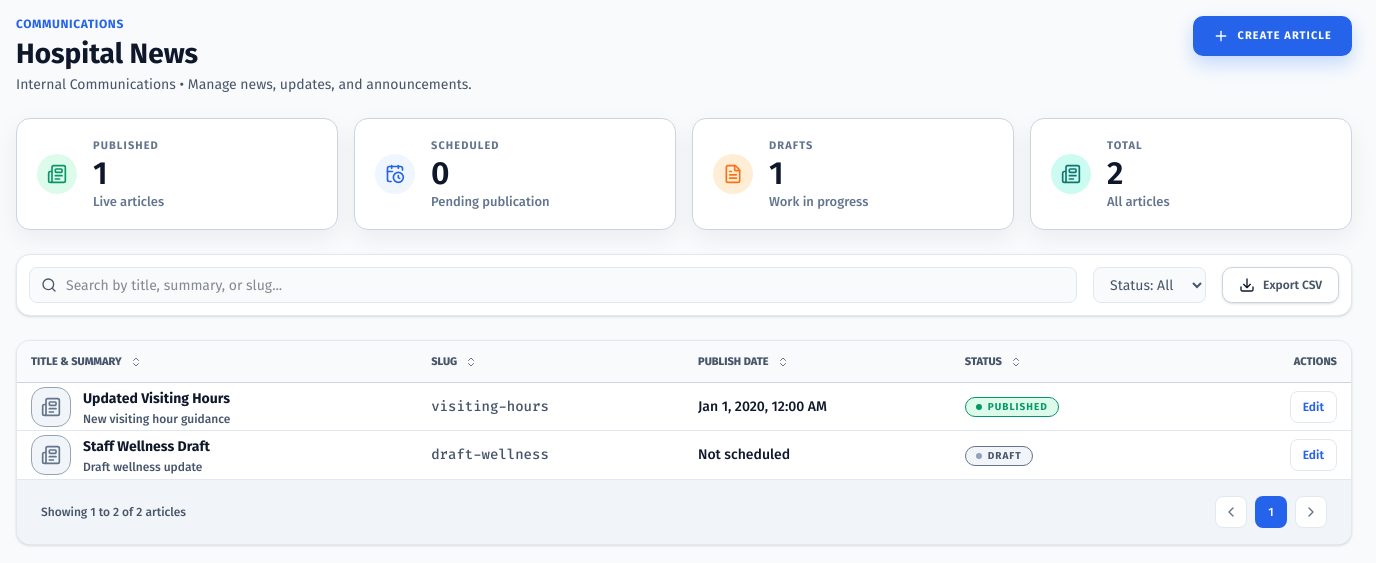
Test: AdminNewsPage › filters articles by search and status
The width and height of the screenshot is (1376, 563).
Expected: the text "Updated Visiting Hours" is shown, [83,390,230,406]
Step 1. Type "wellness" into the search field named "search news articles" → [553, 285], box [29,267,1077,303]
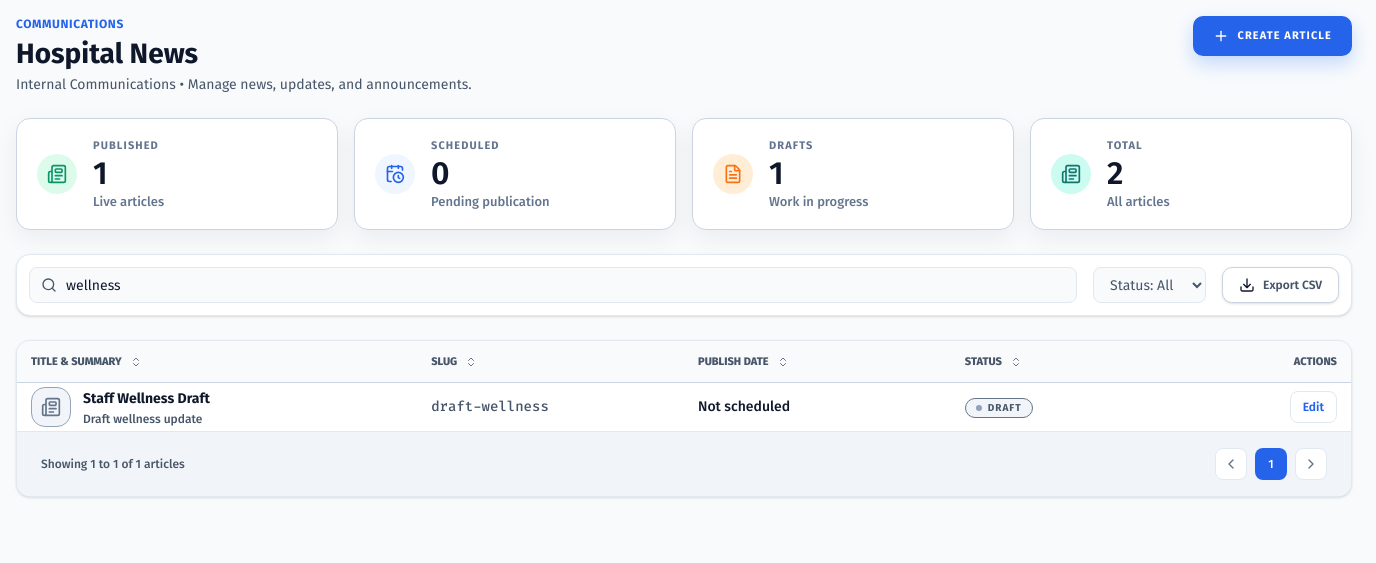
Expected: the text "Staff Wellness Draft" is shown, [83,390,210,407]
Expected: the text "Updated Visiting Hours" is gone
Step 2. Select "Published" in the dropdown named "filter news by status" → [1150, 285], box [1093,267,1206,303]
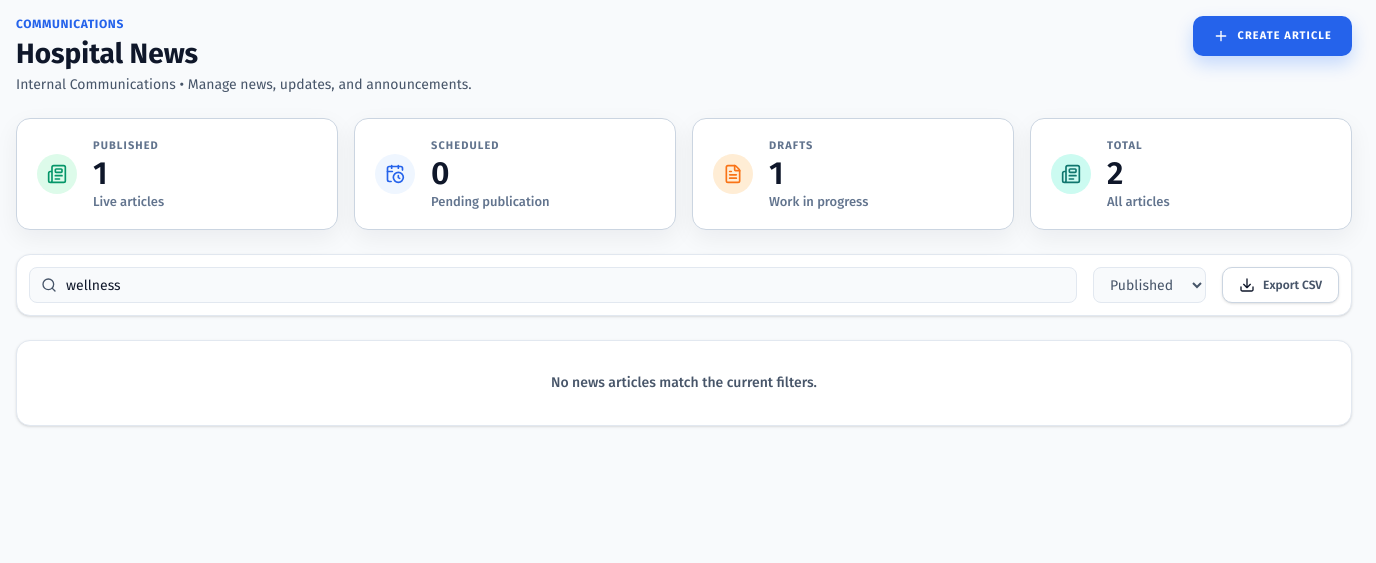
Expected: the text "No news articles match the current filters." is shown, [551,374,817,391]
